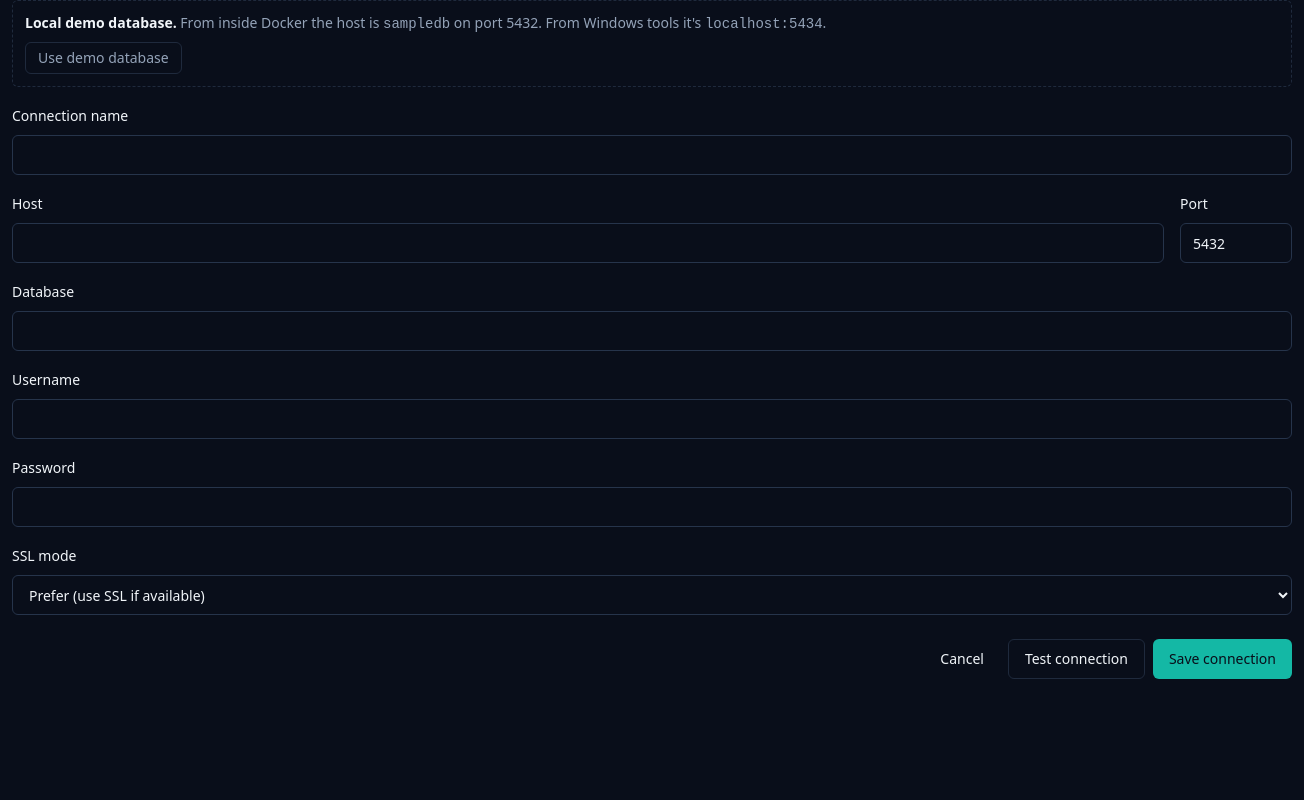
Test case: validates before testing, then shows the result
What coordinates should you click on to do the following:
click the button "Test connection"
I would click on:
 (1076, 659)
Its box is [1008, 639, 1145, 679].
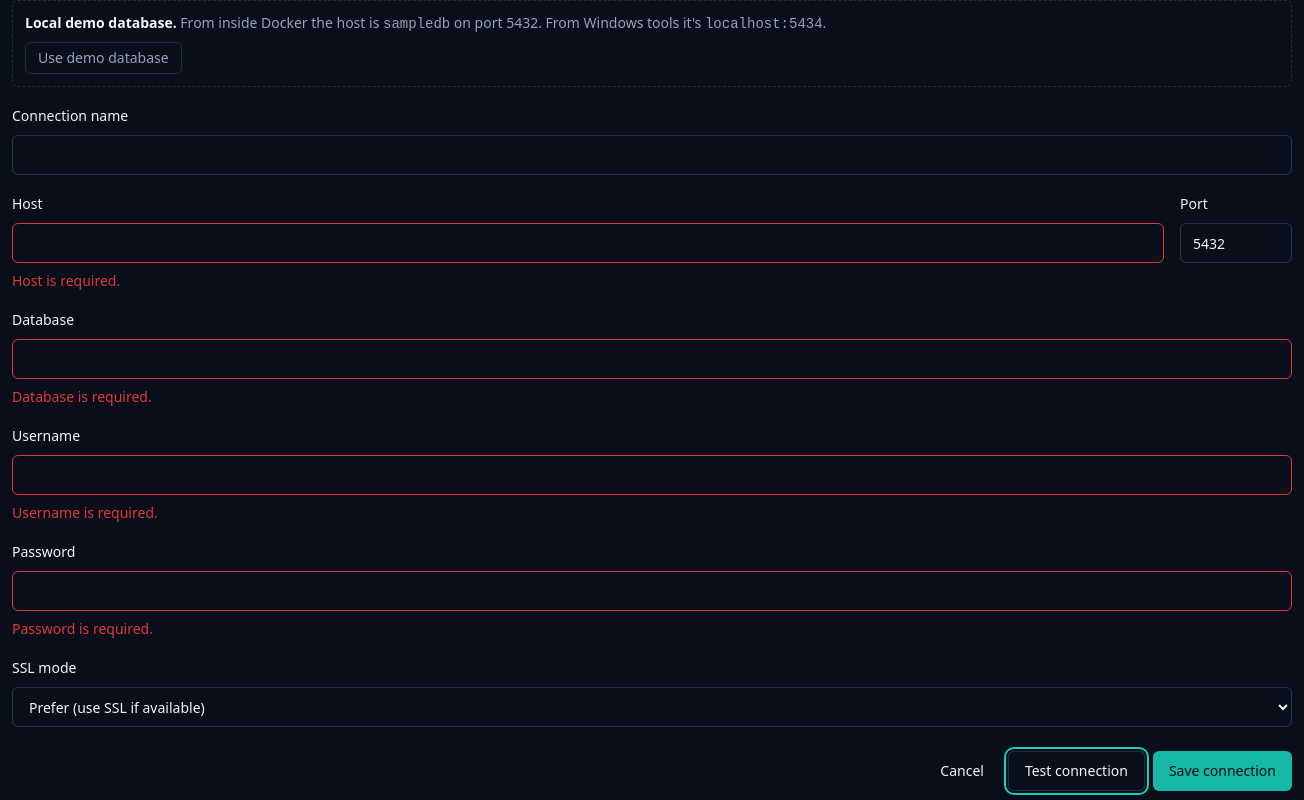
What coordinates should you click on to do the following:
click the button "Use demo database"
I would click on:
 (103, 58)
Its box is [25, 42, 182, 74].
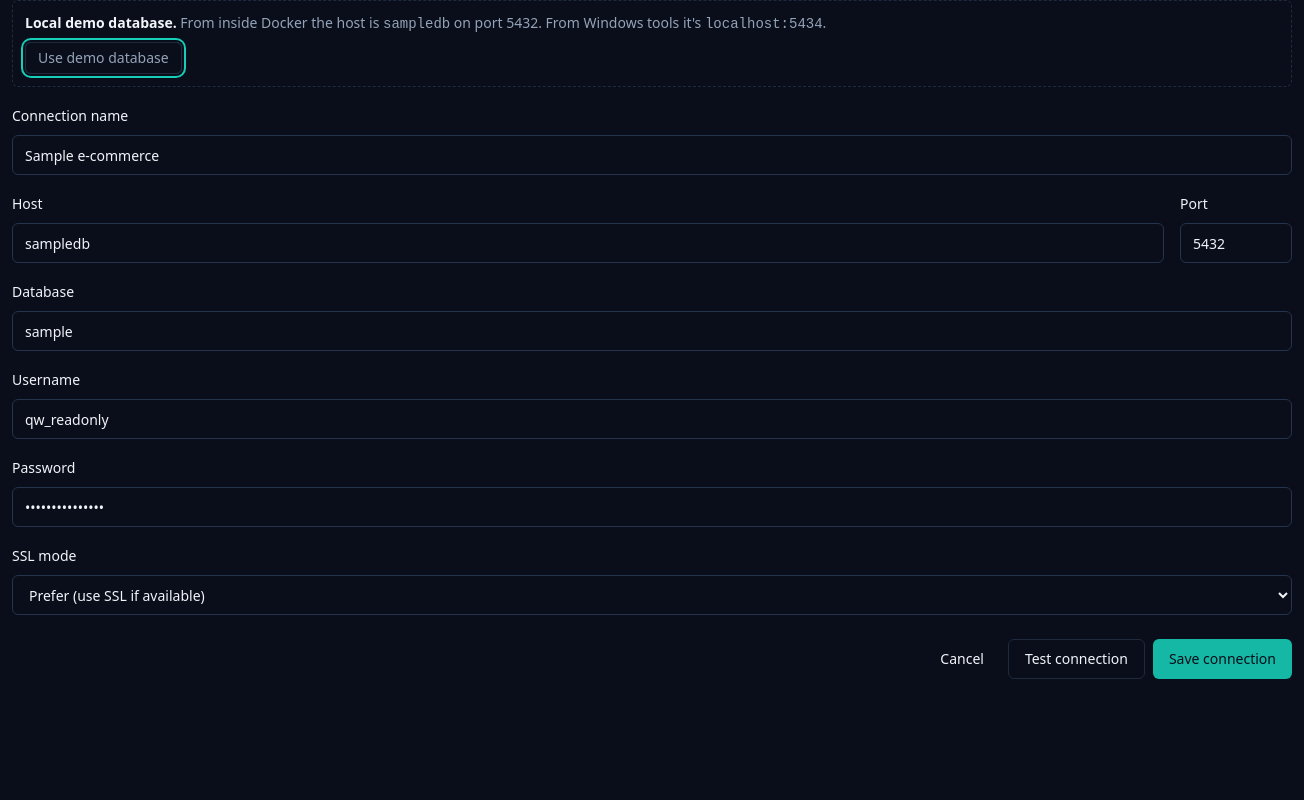
What coordinates should you click on to do the following:
click the button "Test connection"
I would click on:
 (1076, 659)
Its box is [1008, 639, 1145, 679].
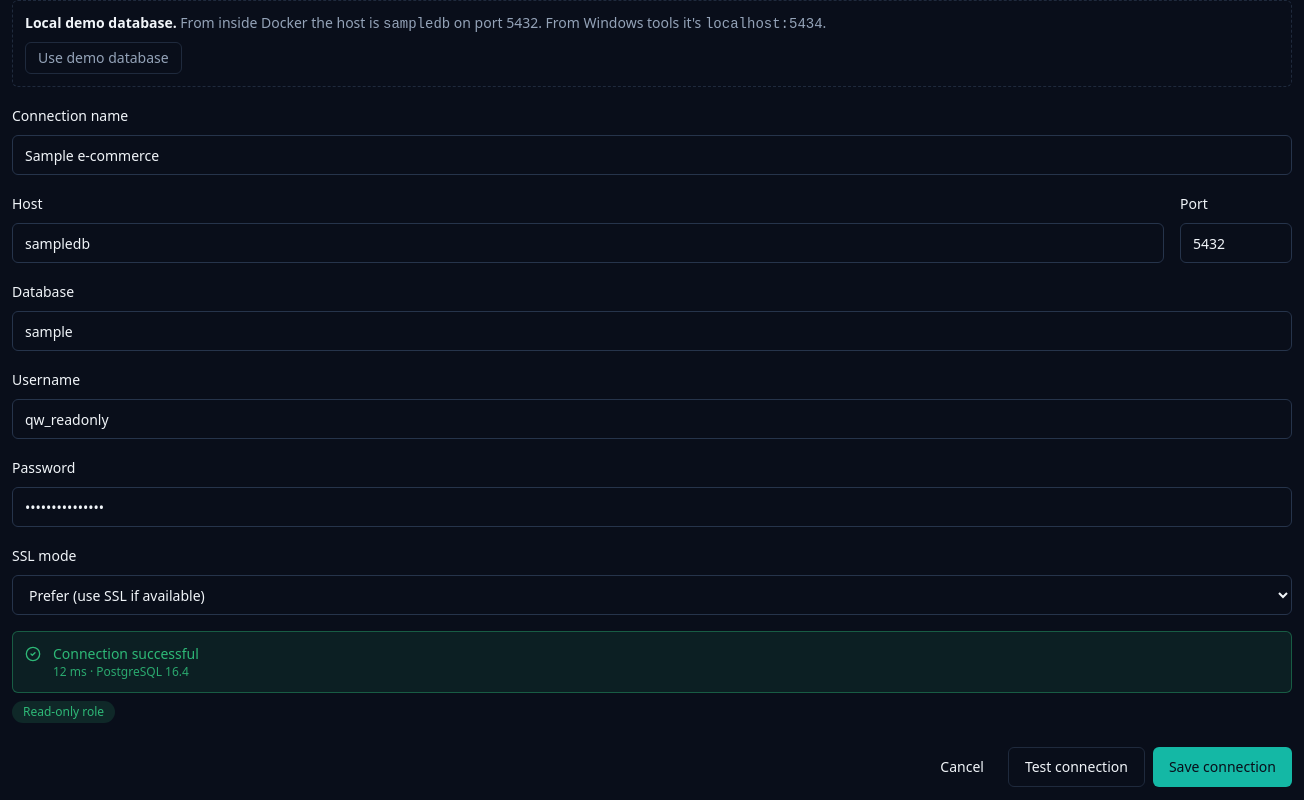
Check: the text "Connection successful" is shown, box [53, 644, 199, 664]
